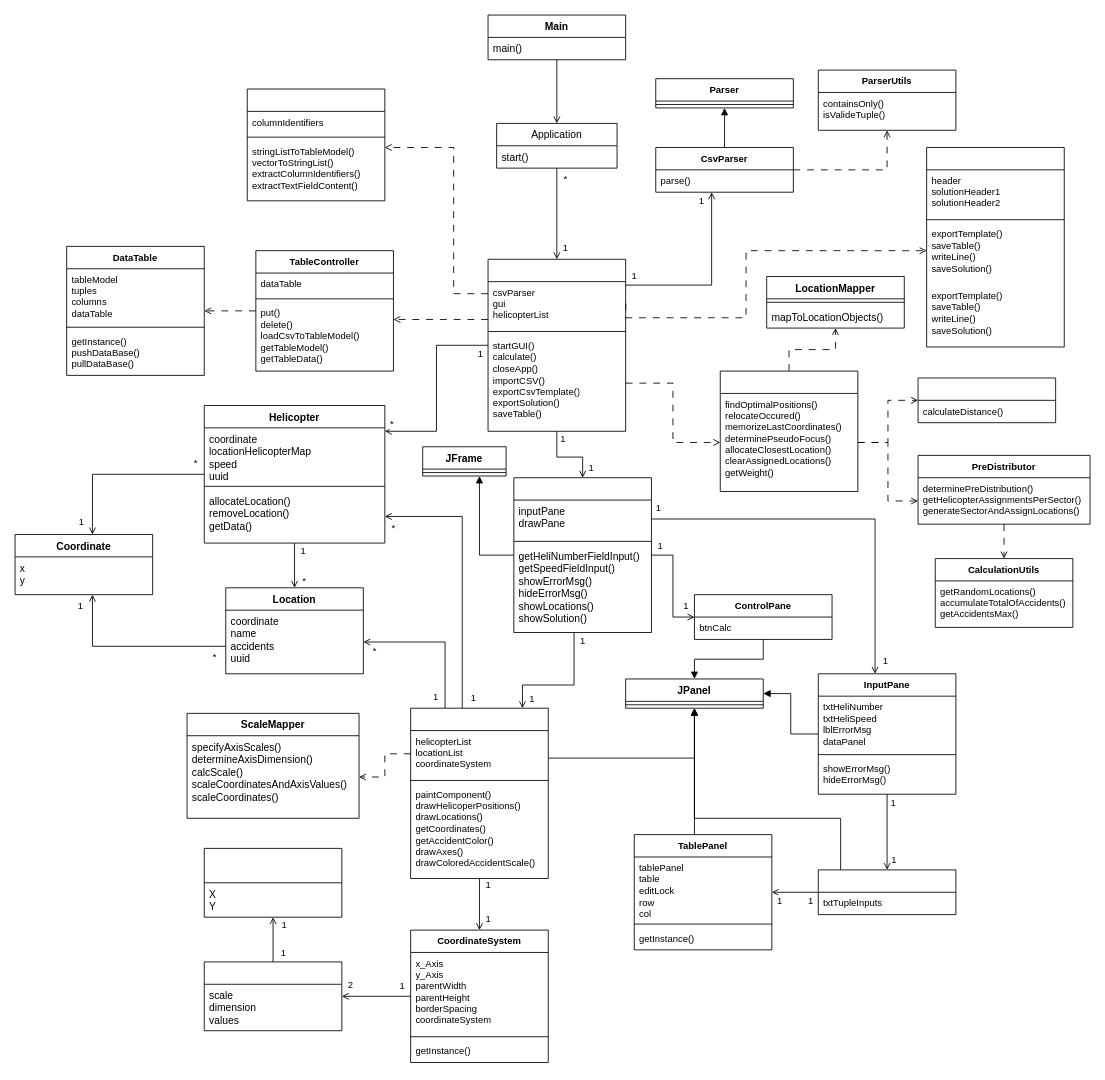
Image size: 1105x1080. Some labels were removed from this diagram. Each missing label, with the box of its shape:
Axis: (203, 961, 342, 1031)
CsvExporter: (926, 147, 1064, 347)
DataPanel: (817, 869, 956, 915)
DrawPane: (410, 707, 548, 878)
Euclid: (917, 377, 1056, 423)
GUI: (513, 477, 651, 633)
Locator: (719, 370, 858, 491)
MainController: (487, 258, 626, 431)
TableDataMapper: (246, 88, 385, 201)
«enumeration» Dimension: (203, 848, 342, 917)
